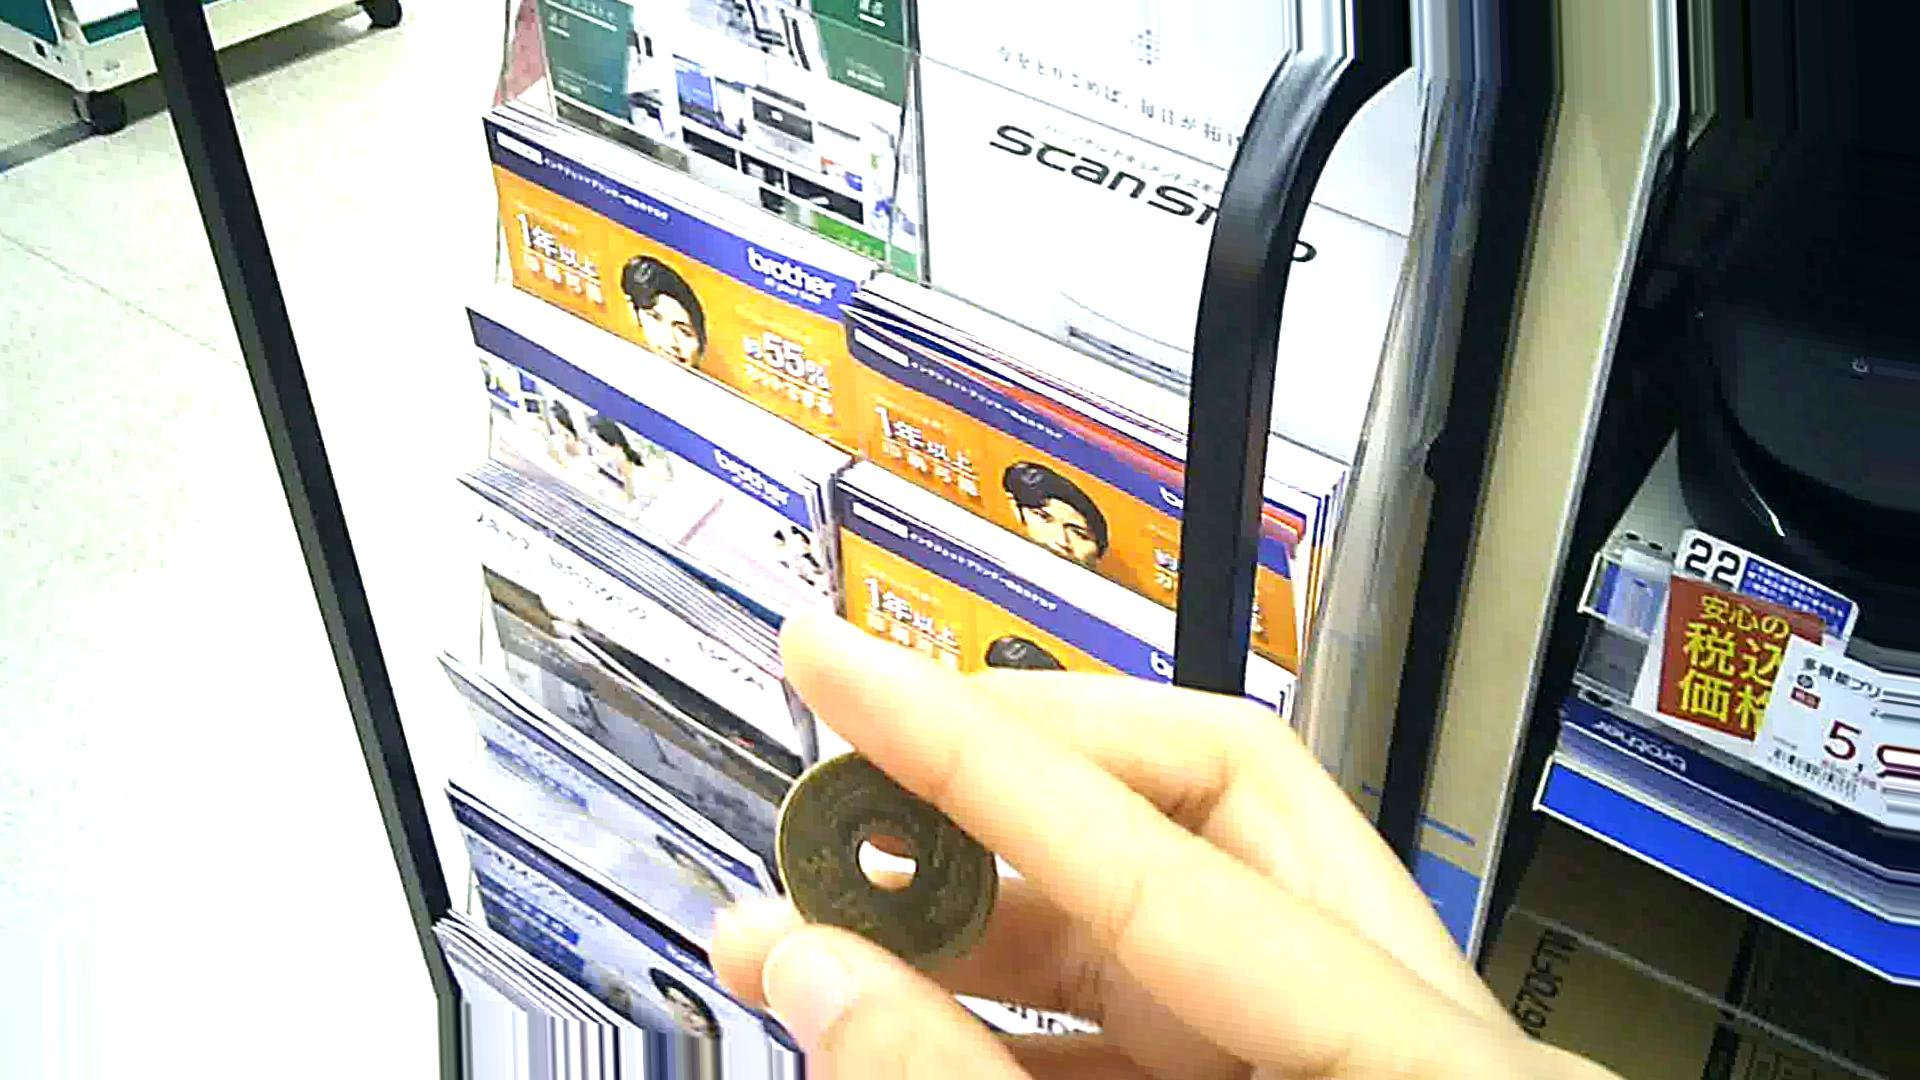5 Yen: (765, 752, 1018, 989)
